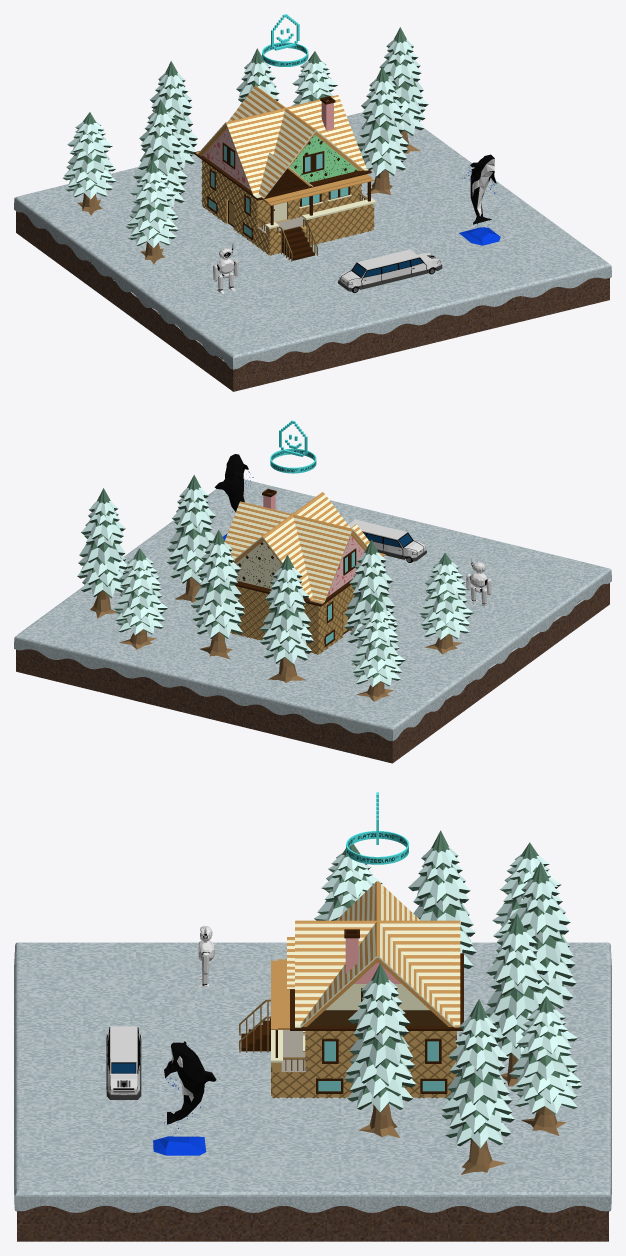
3 renders of one model, top to bottom at view 1: azimuth 30°, elevation 25°; view 2: azimuth 150°, elevation 25°; view 3: azimuth 270°, elevation 25°, orthographic. The views are drawn at different scales.
Visible parts, largest first — view 1: Cube.003, Cube.1102, VEHICLES_LIMOUSINE, ANIMAL_ORCA, TYPE_PREMIUM, OBJRANDOM_PLATZEEBOT; view 2: Cube.003, Cube.1102, VEHICLES_LIMOUSINE, ANIMAL_ORCA, TYPE_PREMIUM, OBJRANDOM_PLATZEEBOT; view 3: Cube.003, Cube.1102, ANIMAL_ORCA, VEHICLES_LIMOUSINE, TYPE_PREMIUM, OBJRANDOM_PLATZEEBOT.
Boxes of the visible parts, box(x1,y1,x2,y2) form: Cube.003: box(14, 27, 611, 391); Cube.1102: box(194, 85, 376, 261); VEHICLES_LIMOUSINE: box(338, 249, 442, 292); ANIMAL_ORCA: box(459, 154, 500, 245); TYPE_PREMIUM: box(262, 14, 308, 66); OBJRANDOM_PLATZEEBOT: box(213, 243, 238, 293); Cube.003: box(14, 475, 611, 763); Cube.1102: box(225, 489, 388, 654); VEHICLES_LIMOUSINE: box(348, 519, 426, 562); ANIMAL_ORCA: box(214, 454, 253, 540); TYPE_PREMIUM: box(270, 420, 316, 473); OBJRANDOM_PLATZEEBOT: box(466, 557, 491, 606); Cube.003: box(14, 830, 611, 1241); Cube.1102: box(239, 881, 463, 1098); ANIMAL_ORCA: box(153, 1041, 216, 1155); VEHICLES_LIMOUSINE: box(106, 1026, 141, 1099); TYPE_PREMIUM: box(346, 792, 408, 864); OBJRANDOM_PLATZEEBOT: box(197, 925, 214, 987).
Size of the model in its own units: 4040 by 2490 by 4040.
31 materials, 6 textured.
